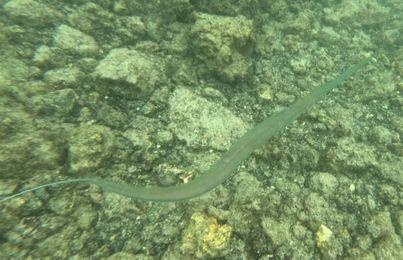Fistularia commersonii: (0, 51, 379, 207)
